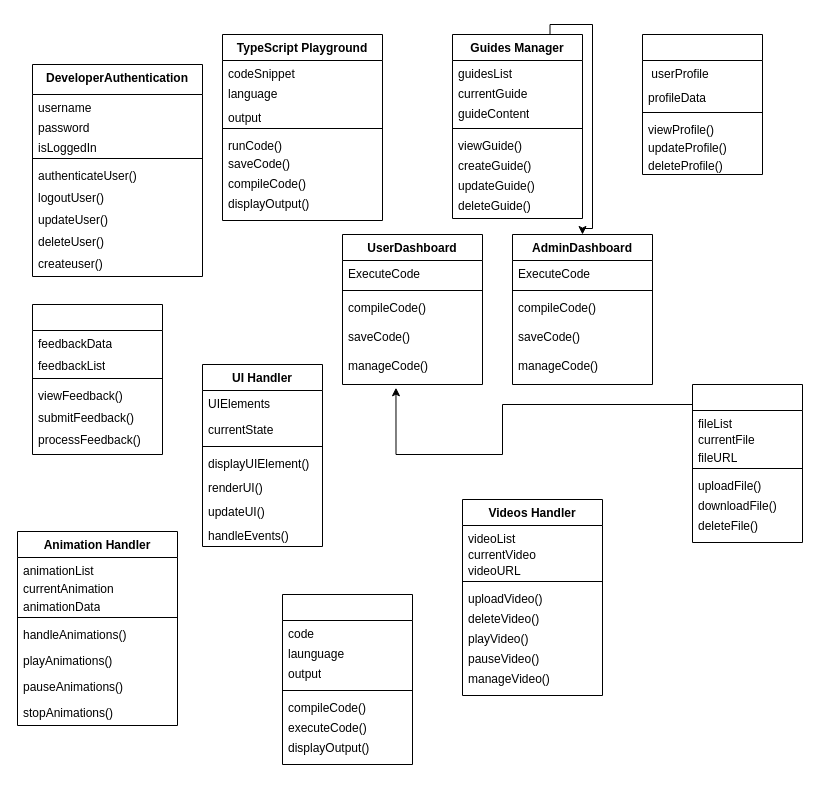
The diagram is 820 pixels wide and 785 high, and some of its shapes have lost their labels. Each missing label, with the box of its shape:
Compiler Handler: (282, 594, 412, 764)
Feedback System: (32, 304, 162, 454)
File Handler: (692, 384, 802, 542)
Profile Manager: (642, 34, 762, 174)
